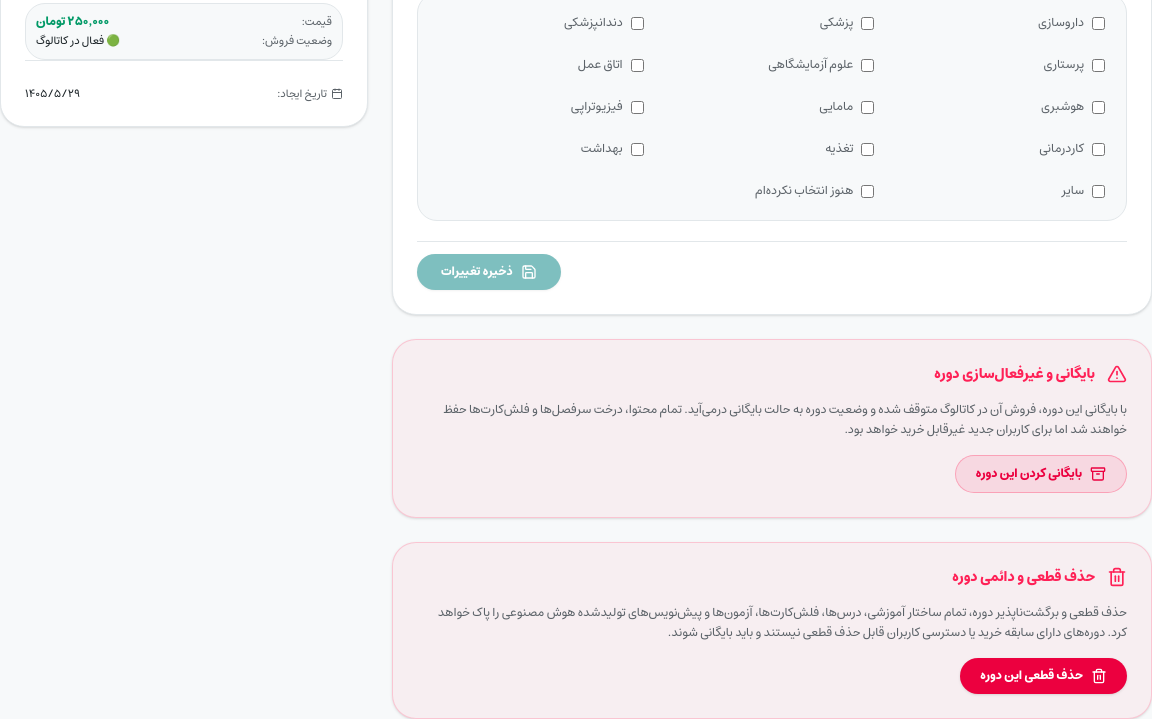
Feature B: Safe Course Deletion Modal & CourseSettingsPanel › 5. Displays permanent deletion section in CourseSettingsPanel Danger Zone for both draft and published courses
(page scrolled)
Expected: the heading "حذف قطعی و دائمی دوره" is shown, 952,567 -> 1095,587
Click the button "حذف قطعی این دوره".
click(1044, 676)  # box 960,658 -> 1127,694
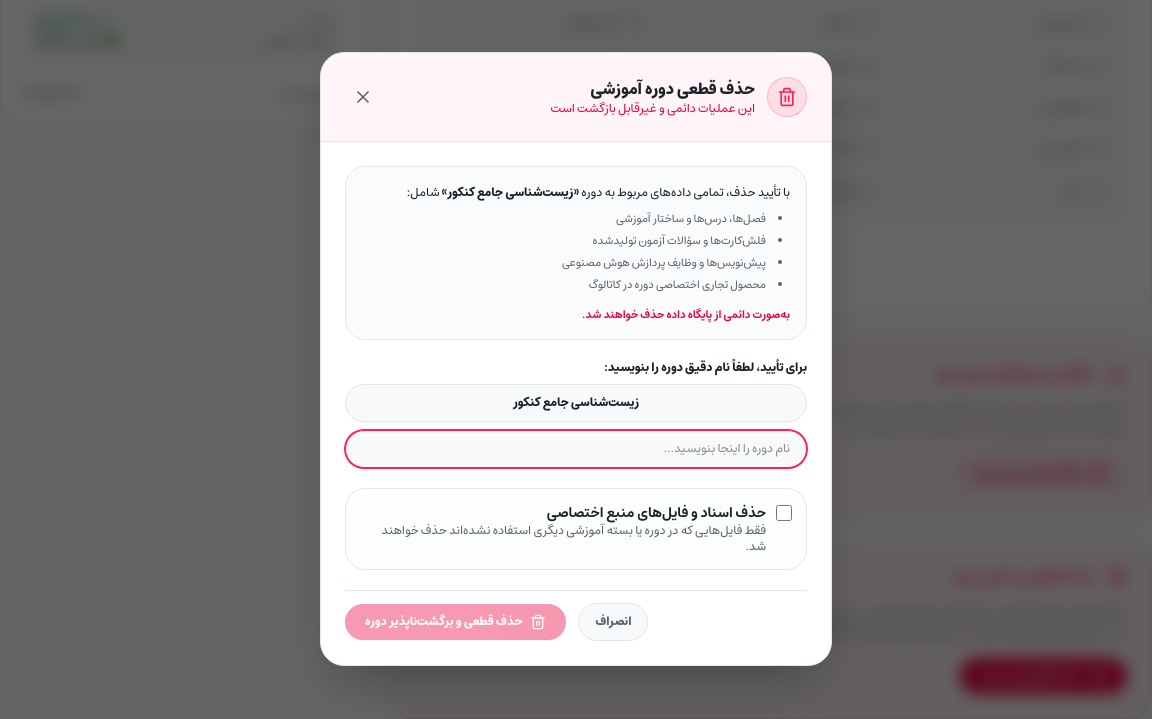
Expected: the heading "حذف قطعی دوره آموزشی" is shown, 590,75 -> 755,103
